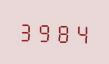eight: (54, 20, 71, 44)
four: (72, 20, 89, 45)
nine: (36, 19, 53, 43)
three: (18, 18, 35, 43)
